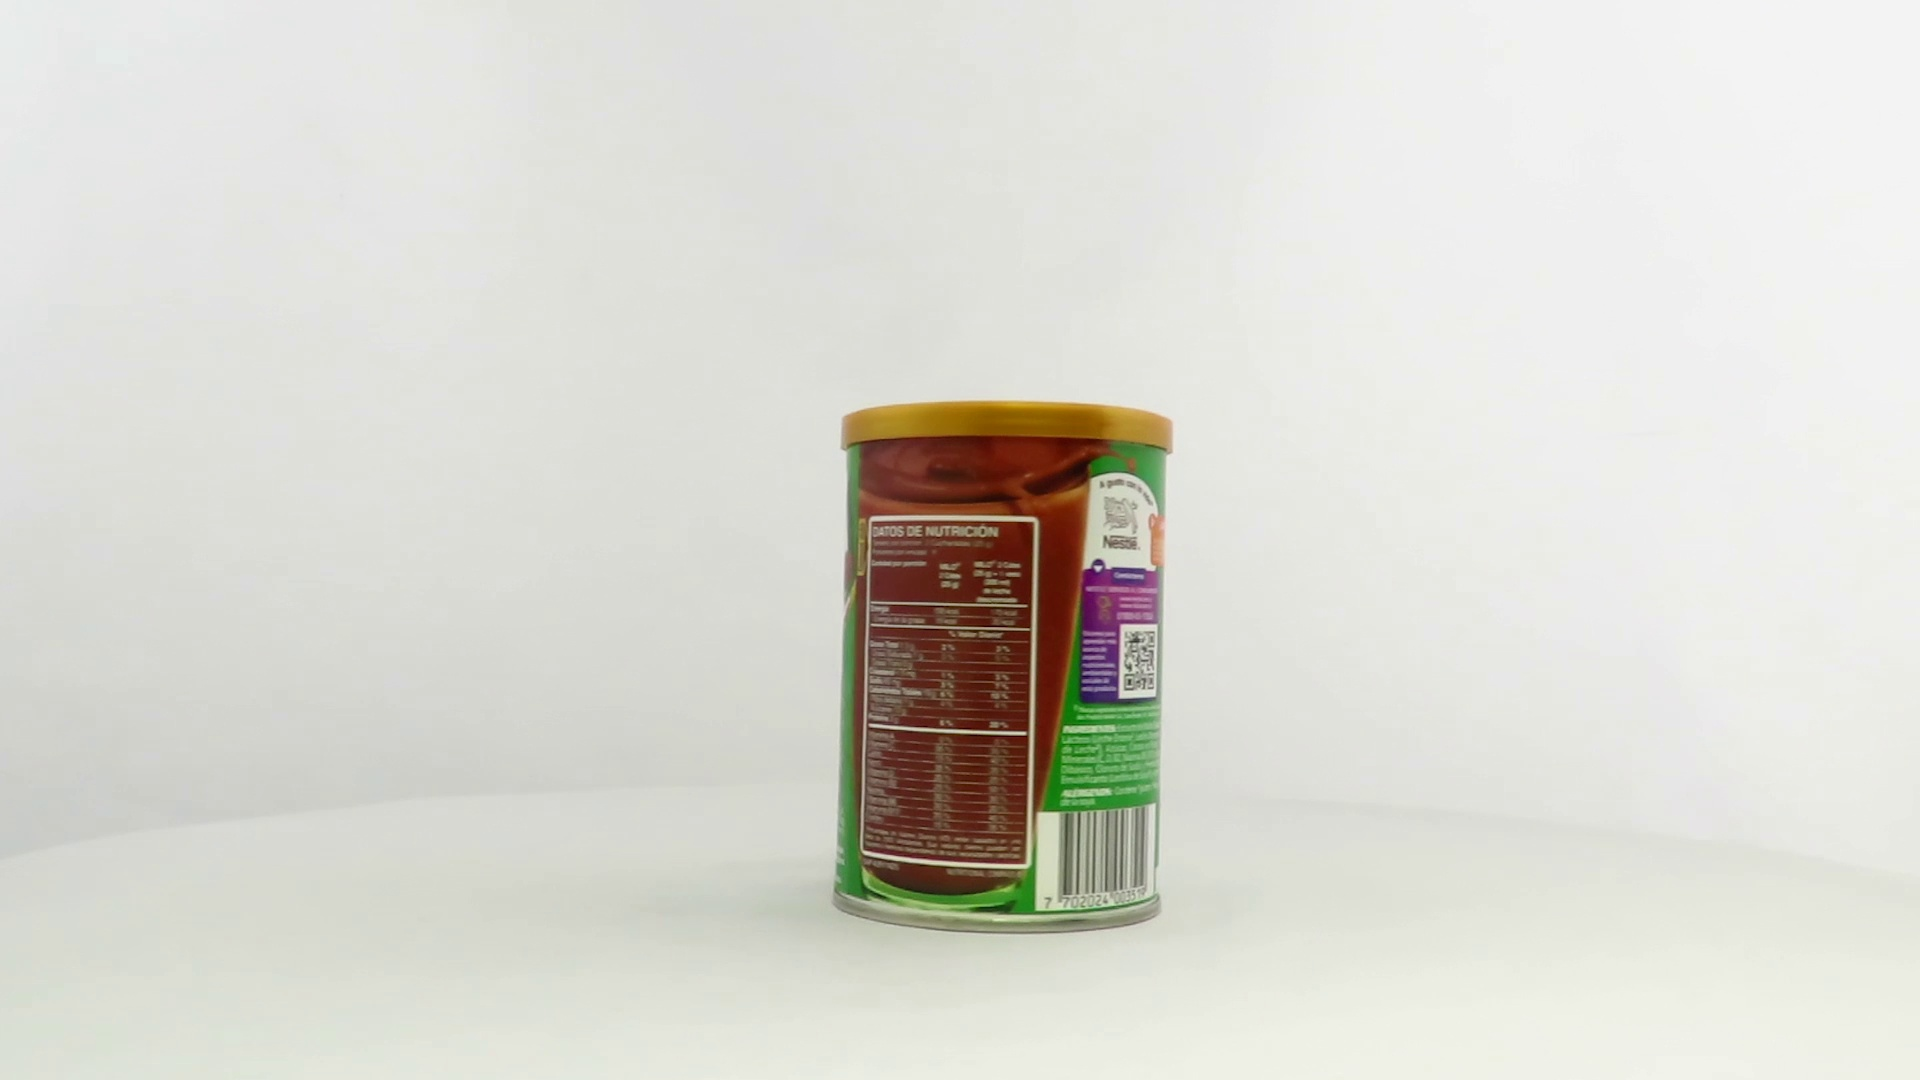COL0170203LAT20000: (825, 396, 1179, 942)
